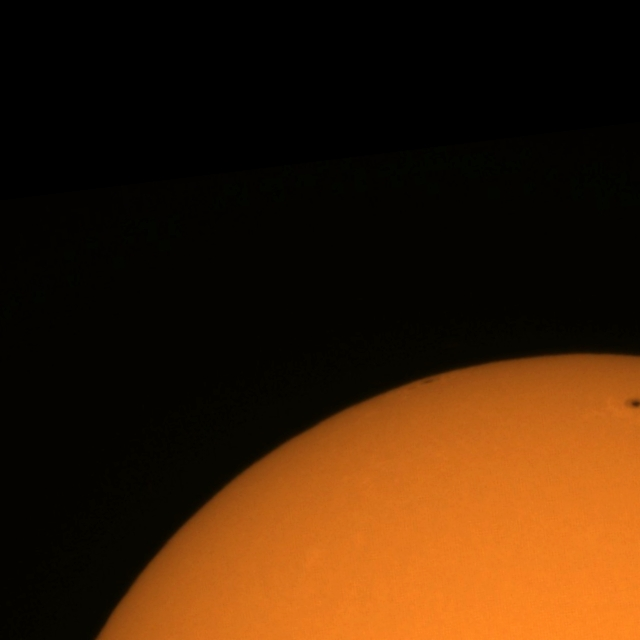sunspot: (623, 395, 640, 412)
